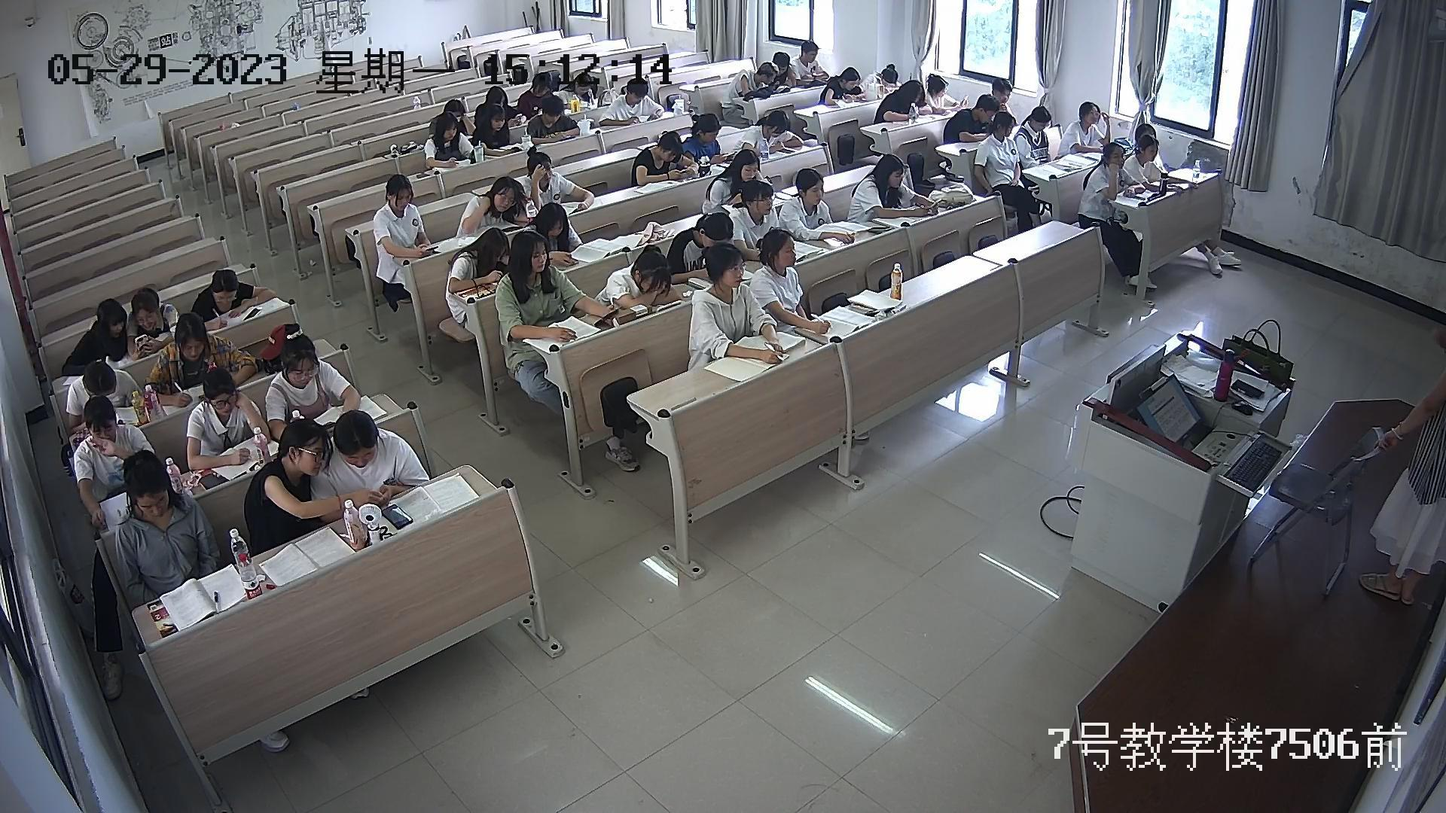Wave: (1103, 111, 1116, 145)
phone: (374, 493, 410, 533), (598, 299, 622, 325), (132, 328, 151, 350), (920, 197, 944, 214), (560, 248, 579, 269), (418, 240, 439, 257), (778, 143, 798, 158), (515, 111, 528, 125), (679, 166, 692, 180), (959, 93, 971, 107), (720, 148, 736, 158), (512, 145, 526, 155), (647, 112, 660, 122)
